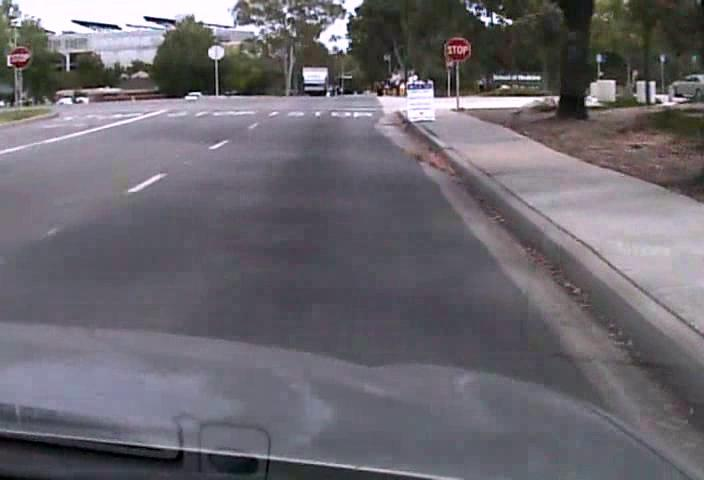stop: (444, 36, 471, 62)
